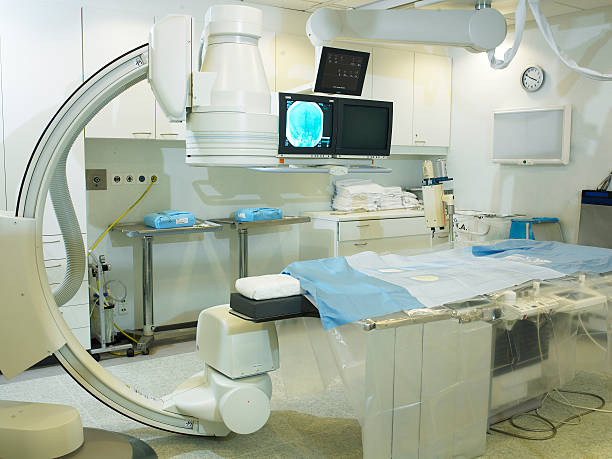bedside_monitor: (274, 92, 335, 158), (333, 98, 395, 157), (308, 41, 371, 96)
cabinet: (78, 7, 450, 155), (1, 5, 94, 354)
handle: (159, 130, 179, 138), (413, 137, 429, 145), (132, 129, 153, 135), (42, 240, 60, 245), (46, 264, 62, 269), (352, 242, 367, 247), (354, 224, 369, 229), (49, 281, 61, 286)
medical_drawer: (298, 202, 458, 254)
operating_bed: (197, 237, 612, 459)
table: (109, 214, 224, 351), (206, 216, 311, 278)
